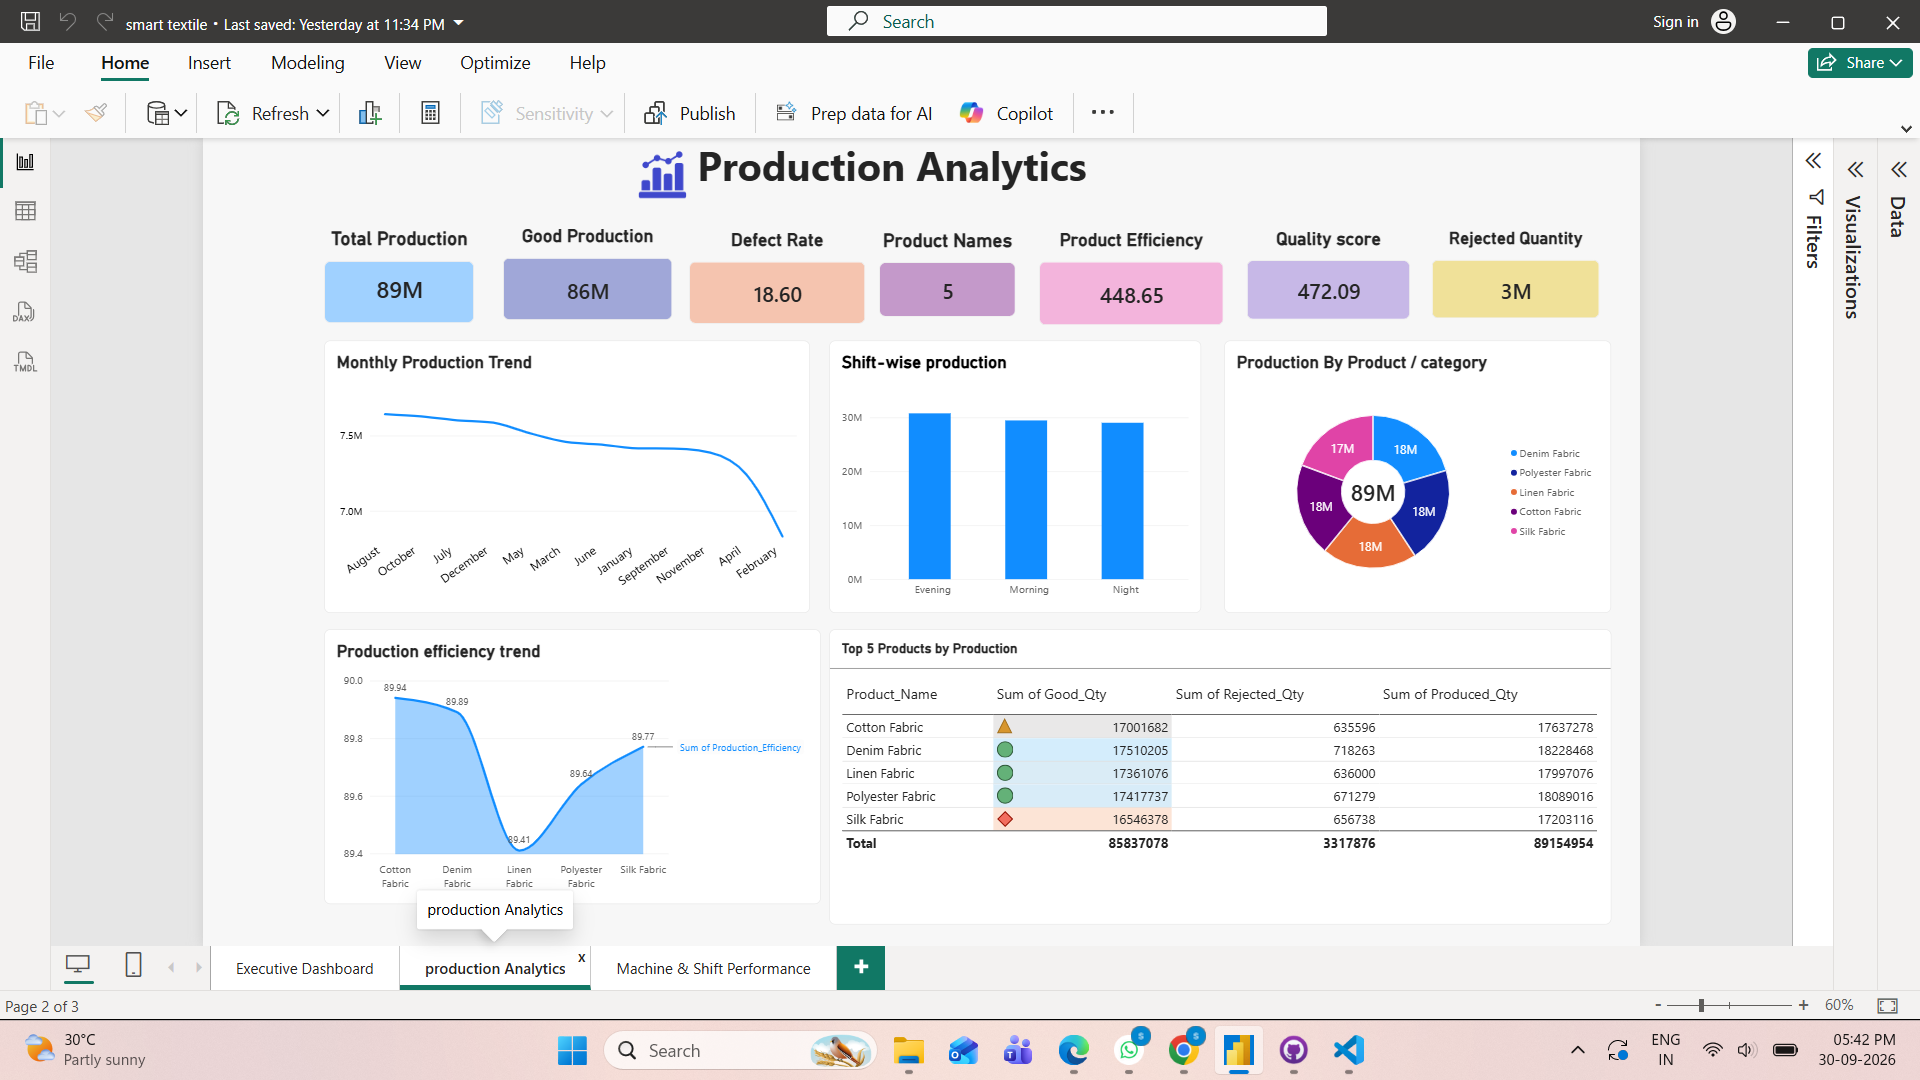

This screenshot's page, from the dashboard's own definition file:
{"tool":"powerbi","page":{"name":"production Analytics","canvas":[1920,1080],"ordinal":1},"visuals":[{"type":"textbox","box":[557.4,0,1172.7,92.3],"z":0},{"type":"image","box":[577.3,7.2,72.4,85.1],"z":1000},{"type":"cardVisual","title":"Total Production","fields":{"Data":["Sum(Product_Analysis.Produced_Qty)"]},"box":[162.6,120.6,201,127.9],"z":2000},{"type":"cardVisual","title":"Good Production","fields":{"Data":["Sum(Product_Analysis.Good_Qty)"]},"box":[399.9,117.6,226.2,126.7],"z":3000},{"type":"cardVisual","title":"Product Names ","fields":{"Data":["Count(Product_Analysis.Product_Name)"]},"box":[903,121.2,182.8,117.6],"z":4000},{"type":"cardVisual","title":"Rejected Quantity","fields":{"Data":["Sum(Product_Analysis.Rejected_Qty)"]},"box":[1641.4,119.4,224.4,121.2],"z":5000},{"type":"cardVisual","title":"Product Efficiency ","fields":{"Data":["Sum(Product_Analysis.Production_Efficiency)"]},"box":[1116.6,121.2,246.1,128.5],"z":6000},{"type":"cardVisual","title":"Quality score","fields":{"Data":["Sum(Product_Analysis.Quality_Score)"]},"box":[1393.4,119.4,219,123.1],"z":7000},{"type":"cardVisual","title":"Defect Rate","fields":{"Data":["Sum(Product_Analysis.Defect_Rate)"]},"box":[649.7,121.2,235.3,126.7],"z":8000},{"type":"lineChart","title":"Monthly Production Trend","fields":{"Category":["Month_Analysis.Month_Name"],"Y":["Sum(Month_Analysis.Produced_Qty)"]},"box":[162.6,270.4,648.7,363.6],"z":9000},{"type":"columnChart","title":"Shift-wise production","fields":{"Category":["Shift_Analysis.Shift"],"Y":["Sum(Shift_Analysis.Produced_Qty)"]},"box":[836.9,270.4,497,363.6],"z":10000},{"type":"donutChart","title":"Production By Product / category","fields":{"Y":["Sum(Product_Analysis.Produced_Qty)"],"Category":["Product_Analysis.Product_Name"]},"box":[1364.9,270.4,517.1,363.6],"z":11000},{"type":"areaChart","title":"Production efficiency trend","fields":{"Category":["Product_Analysis.Product_Name","Year_Analysis.Year"],"Y":["Sum(Product_Analysis.Production_Efficiency)"]},"box":[162.6,656,663.3,367.3],"z":12000},{"type":"tableEx","title":"Top 5 Products by Production","fields":{"Values":["Product_Analysis.Product_Name","Sum(Product_Analysis.Good_Qty)","Sum(Product_Analysis.Rejected_Qty)","Sum(Product_Analysis.Produced_Qty)"]},"box":[836.9,656,1045.1,394.7],"z":13000}]}

Visuals, with their boxes on the page's 1920x1080 design canvas (x1, y1, x2, y2). These are canvas units, not pixel positions in the 1920x1080 screenshot, which may show the page scaled, cropped or inside an application window:
textbox: crop(557, 0, 1730, 92)
image: crop(577, 7, 650, 92)
"Total Production" cardVisual: crop(163, 121, 364, 248)
"Good Production" cardVisual: crop(400, 118, 626, 244)
"Product Names " cardVisual: crop(903, 121, 1086, 239)
"Rejected Quantity" cardVisual: crop(1641, 119, 1866, 241)
"Product Efficiency " cardVisual: crop(1117, 121, 1363, 250)
"Quality score" cardVisual: crop(1393, 119, 1612, 242)
"Defect Rate" cardVisual: crop(650, 121, 885, 248)
"Monthly Production Trend" lineChart: crop(163, 270, 811, 634)
"Shift-wise production" columnChart: crop(837, 270, 1334, 634)
"Production By Product / category" donutChart: crop(1365, 270, 1882, 634)
"Production efficiency trend" areaChart: crop(163, 656, 826, 1023)
"Top 5 Products by Production" tableEx: crop(837, 656, 1882, 1051)
